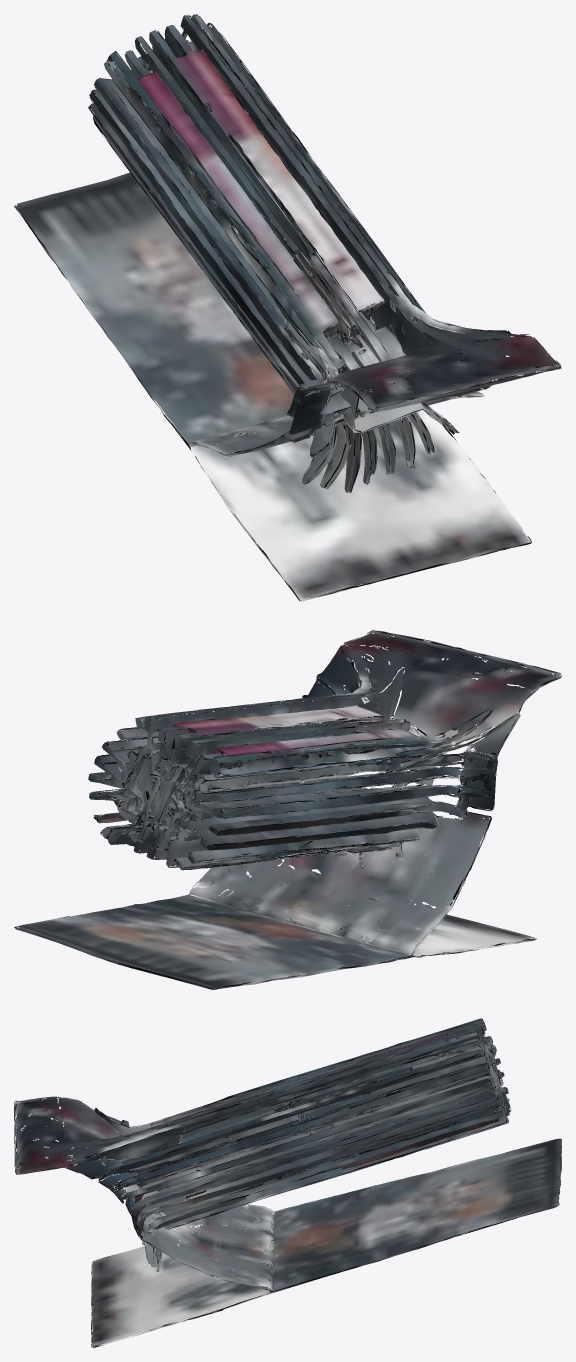
File: vardos-kestro-tower.hq.glb
The picture shows the model from 3 angles, top to bottom: view 1: azimuth 30°, elevation 25°; view 2: azimuth 150°, elevation 25°; view 3: azimuth 270°, elevation 25°; orthographic projection. The views are drawn at different scales.
Parts seen in each view (by area): view 1: low; view 2: low; view 3: low.
Part boxes in pixels (x1,y1,x2,y2): low: [14, 14, 561, 601]; low: [14, 630, 561, 989]; low: [14, 1018, 561, 1347].
Bounding box in the file's own units: 0.3678 × 0.5578 × 0.9668.
1 material, 1 textured.
